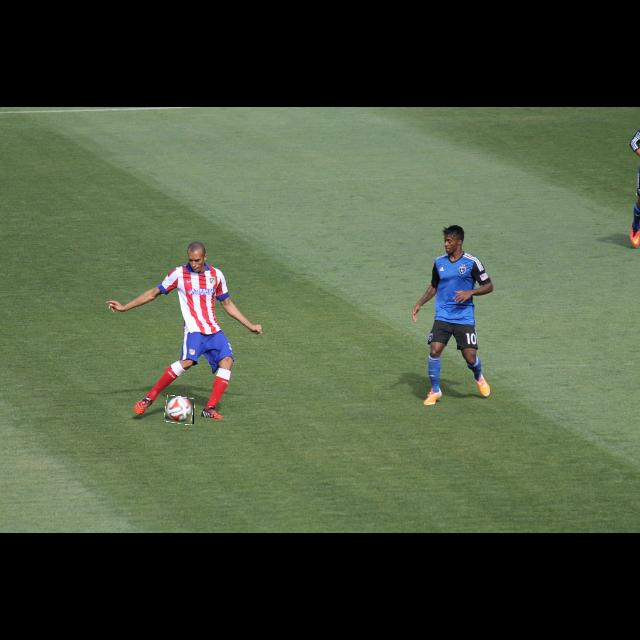Football: (166, 396, 194, 424)
